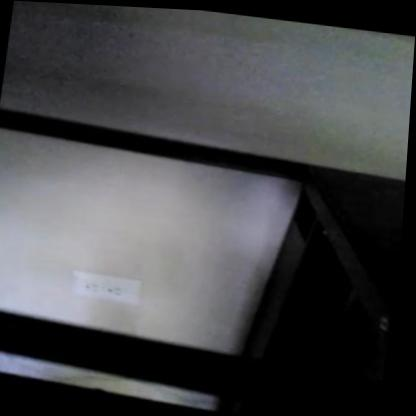OUTLET: (73, 270, 144, 305)
